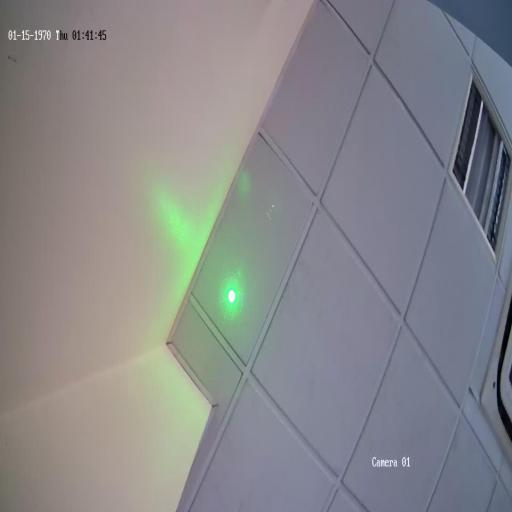laser: (224, 282, 238, 308)
